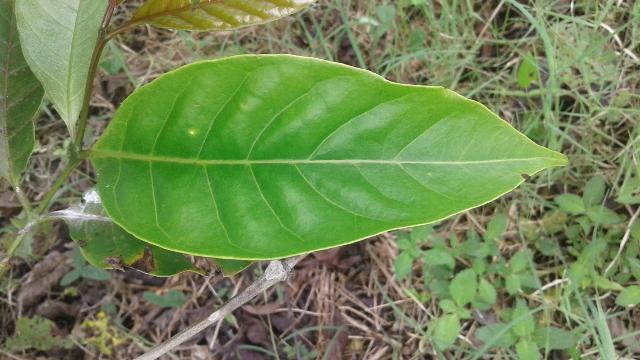rust_level_1: (86, 52, 579, 266)
